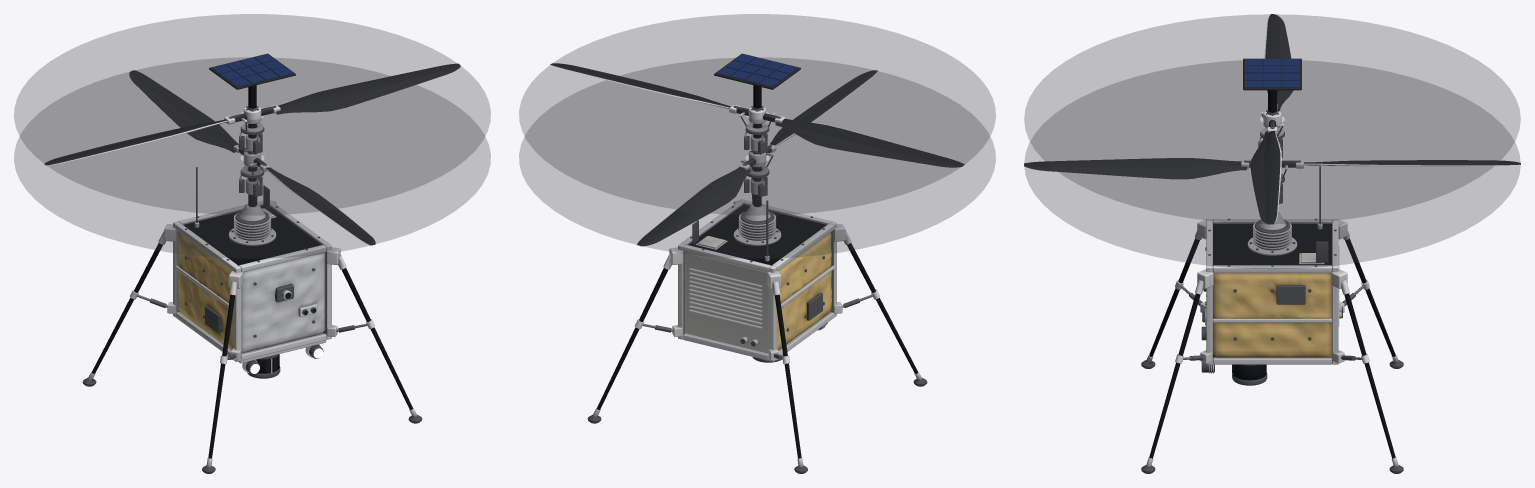
File: rotorcraft.glb
3 views of the same model, side by side, from view 1: azimuth 30°, elevation 25°; view 2: azimuth 150°, elevation 25°; view 3: azimuth 270°, elevation 25° (orthographic). The views are drawn at different scales.
Parts seen in each view (by area): view 1: rotor_disc_upper, rotor_disc_lower, body, rotor_upper, rotor_lower, lidar_head; view 2: rotor_disc_upper, rotor_disc_lower, body, rotor_upper, rotor_lower; view 3: rotor_disc_upper, rotor_disc_lower, body, rotor_lower, rotor_upper, lidar_head.
Part boxes in pixels (x1,y1,x2,y2): rotor_disc_upper: (14,14,490,215); rotor_disc_lower: (14,58,490,258); body: (82,53,422,473); rotor_upper: (44,63,460,165); rotor_lower: (129,70,375,245); lidar_head: (247,354,280,378); rotor_disc_upper: (519,14,995,215); rotor_disc_lower: (519,58,995,258); body: (587,53,927,473); rotor_upper: (550,63,964,167); rotor_lower: (637,70,877,246); rotor_disc_upper: (1024,14,1520,223); rotor_disc_lower: (1024,61,1520,268); body: (1141,58,1403,473); rotor_lower: (1024,158,1520,180); rotor_upper: (1250,14,1293,224); lidar_head: (1232,364,1267,385).
Size of the model in its own units: 1.2 by 0.9233 by 1.2.
